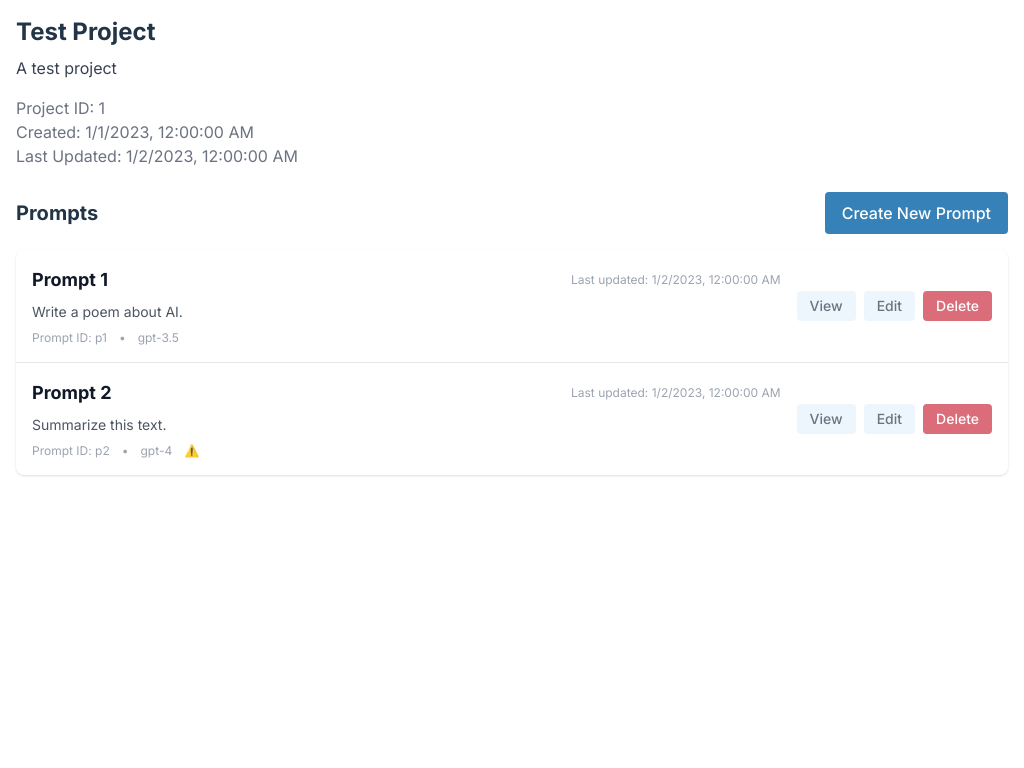
Test: ProjectPage › shows prompt editor when edit prompt is clicked
Expected: the heading "Prompt 1" is shown, [32,266,108,294]
What coordinates should you click on to do the following:
click the button "Edit" in the row of "Write a poem about AI."
I would click on:
 (889, 306)
Its box is [864,291,915,321].
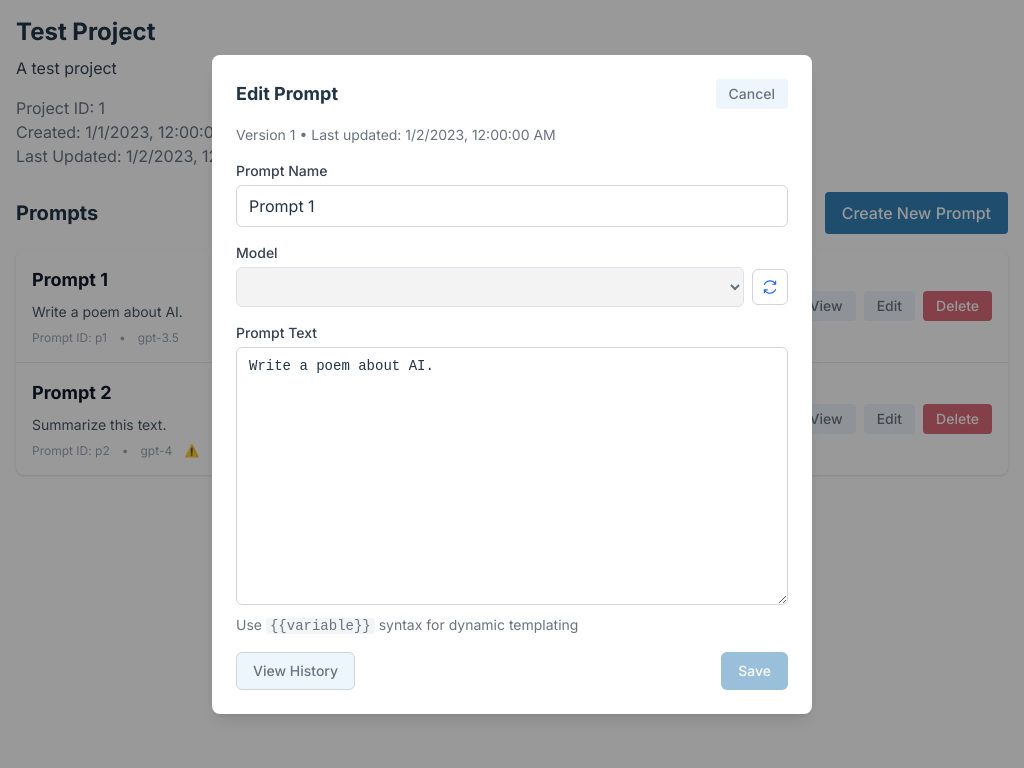
Expected: the field showing "Prompt 1" is shown, [236,184,788,226]
Expected: the text box showing "Write a poem about AI." is shown, [236,346,788,604]
Expected: the button "Cancel" is shown, [716,78,788,108]
